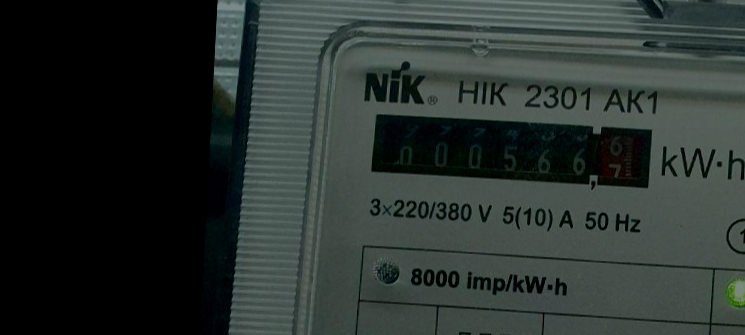0: (464, 141, 483, 171), (430, 138, 448, 168), (394, 141, 414, 165)
5: (499, 143, 518, 173)
6: (568, 144, 588, 176), (532, 145, 552, 174), (606, 133, 624, 159)
7: (604, 161, 621, 180)
9: (399, 119, 418, 140)
screen: (360, 105, 657, 197)
